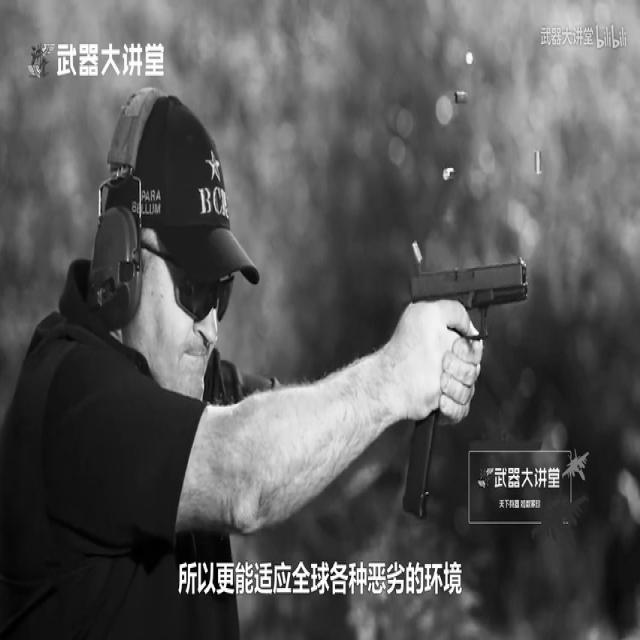Sub-machine-gun: (369, 166, 565, 592)
